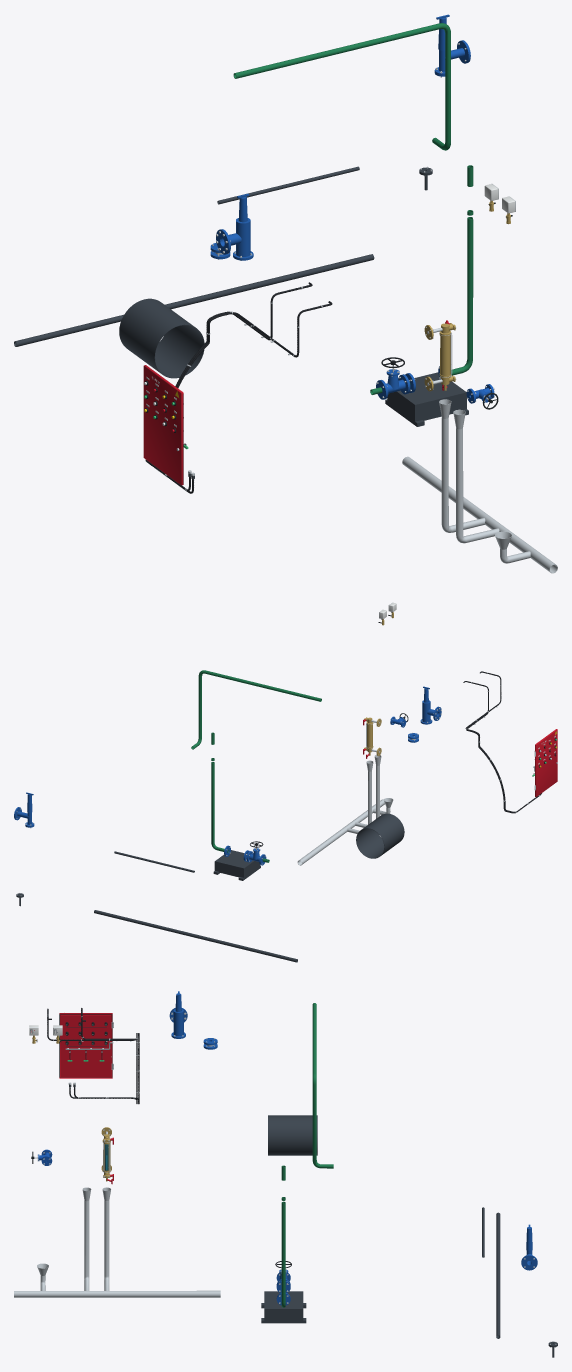
Rendered from s4000-7-Cfwcfvlm.glb.
The picture shows the model from 3 angles, top to bottom: view 1: azimuth 30°, elevation 25°; view 2: azimuth 150°, elevation 25°; view 3: azimuth 270°, elevation 25°; orthographic projection. The views are drawn at different scales.
Visible parts, largest first — view 1: local_open_drains / steel, flue_spacer / dark, cabinet_door / cabinet_door_5.npz, pump_branch_2 / dark, to_direct / green, bottom_discharge / dark, pump_branch_2 / green, safety_1 / blue, sight_glasses_2 / sight_glasses_2_0.npz, flash_steam_common / blue, wiring_lp200 / black, wiring_high_level / black; view 2: flue_spacer / dark, local_open_drains / steel, cabinet_door / cabinet_door_5.npz, pump_branch_2 / dark, bottom_discharge / dark, to_direct / green, pump_branch_2 / green; view 3: cabinet_door / cabinet_door_5.npz, local_open_drains / steel, flue_spacer / dark, pump_branch_2 / dark, to_direct / green, bottom_discharge / dark, pump_branch_2 / green, safety_1 / blue, wiring_lp200 / black, sight_glasses_2 / sight_glasses_2_0.npz.
Part boxes in pixels (left/top/right/bottom): local_open_drains / steel: left=402, top=399, right=557, bottom=573; flue_spacer / dark: left=119, top=298, right=204, bottom=378; cabinet_door / cabinet_door_5.npz: left=143, top=365, right=183, bottom=485; pump_branch_2 / dark: left=385, top=372, right=468, bottom=426; to_direct / green: left=233, top=23, right=450, bottom=150; bottom_discharge / dark: left=14, top=254, right=374, bottom=346; pump_branch_2 / green: left=370, top=165, right=473, bottom=394; safety_1 / blue: left=216, top=193, right=253, bottom=260; sight_glasses_2 / sight_glasses_2_0.npz: left=424, top=320, right=456, bottom=391; flash_steam_common / blue: left=434, top=14, right=470, bottom=76; wiring_lp200 / black: left=148, top=301, right=332, bottom=493; wiring_high_level / black: left=146, top=282, right=312, bottom=491; flue_spacer / dark: left=356, top=813, right=404, bottom=858; local_open_drains / steel: left=297, top=755, right=393, bottom=865; cabinet_door / cabinet_door_5.npz: left=534, top=729, right=557, bottom=796; pump_branch_2 / dark: left=213, top=850, right=260, bottom=880; bottom_discharge / dark: left=94, top=910, right=297, bottom=962; to_direct / green: left=191, top=670, right=321, bottom=749; pump_branch_2 / green: left=211, top=732, right=269, bottom=862; cabinet_door / cabinet_door_5.npz: left=59, top=1013, right=113, bottom=1078; local_open_drains / steel: left=14, top=1187, right=220, bottom=1297; flue_spacer / dark: left=268, top=1115, right=317, bottom=1155; pump_branch_2 / dark: left=261, top=1291, right=306, bottom=1323; to_direct / green: left=312, top=1003, right=333, bottom=1168; bottom_discharge / dark: left=496, top=1212, right=500, bottom=1338; pump_branch_2 / green: left=281, top=1165, right=285, bottom=1307; safety_1 / blue: left=169, top=991, right=187, bottom=1038; wiring_lp200 / black: left=47, top=1008, right=137, bottom=1103; sight_glasses_2 / sight_glasses_2_0.npz: left=101, top=1127, right=113, bottom=1184.
Size of the model in its own units: 5.06 by 2.88 by 5.45.
